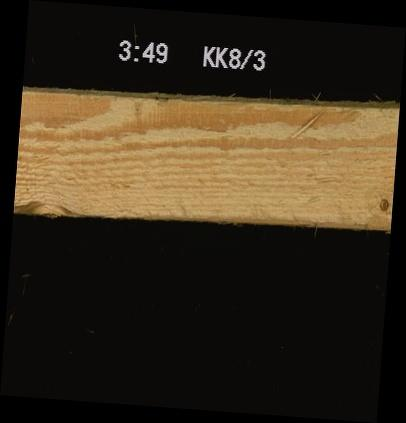dry_knot: (376, 195, 390, 213)
wave: (210, 216, 390, 230)
